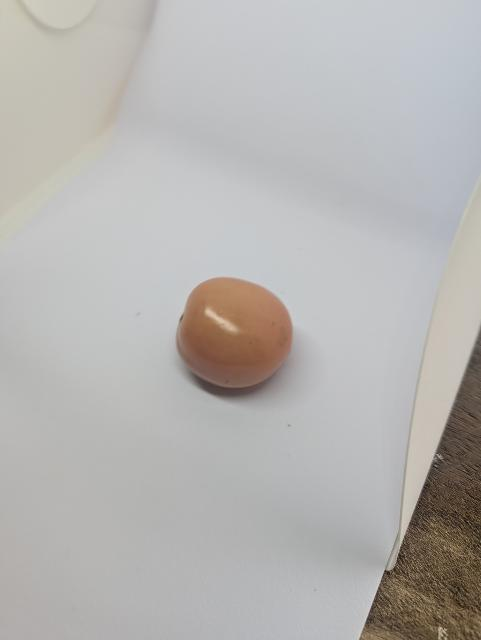turning: (168, 270, 306, 393)
